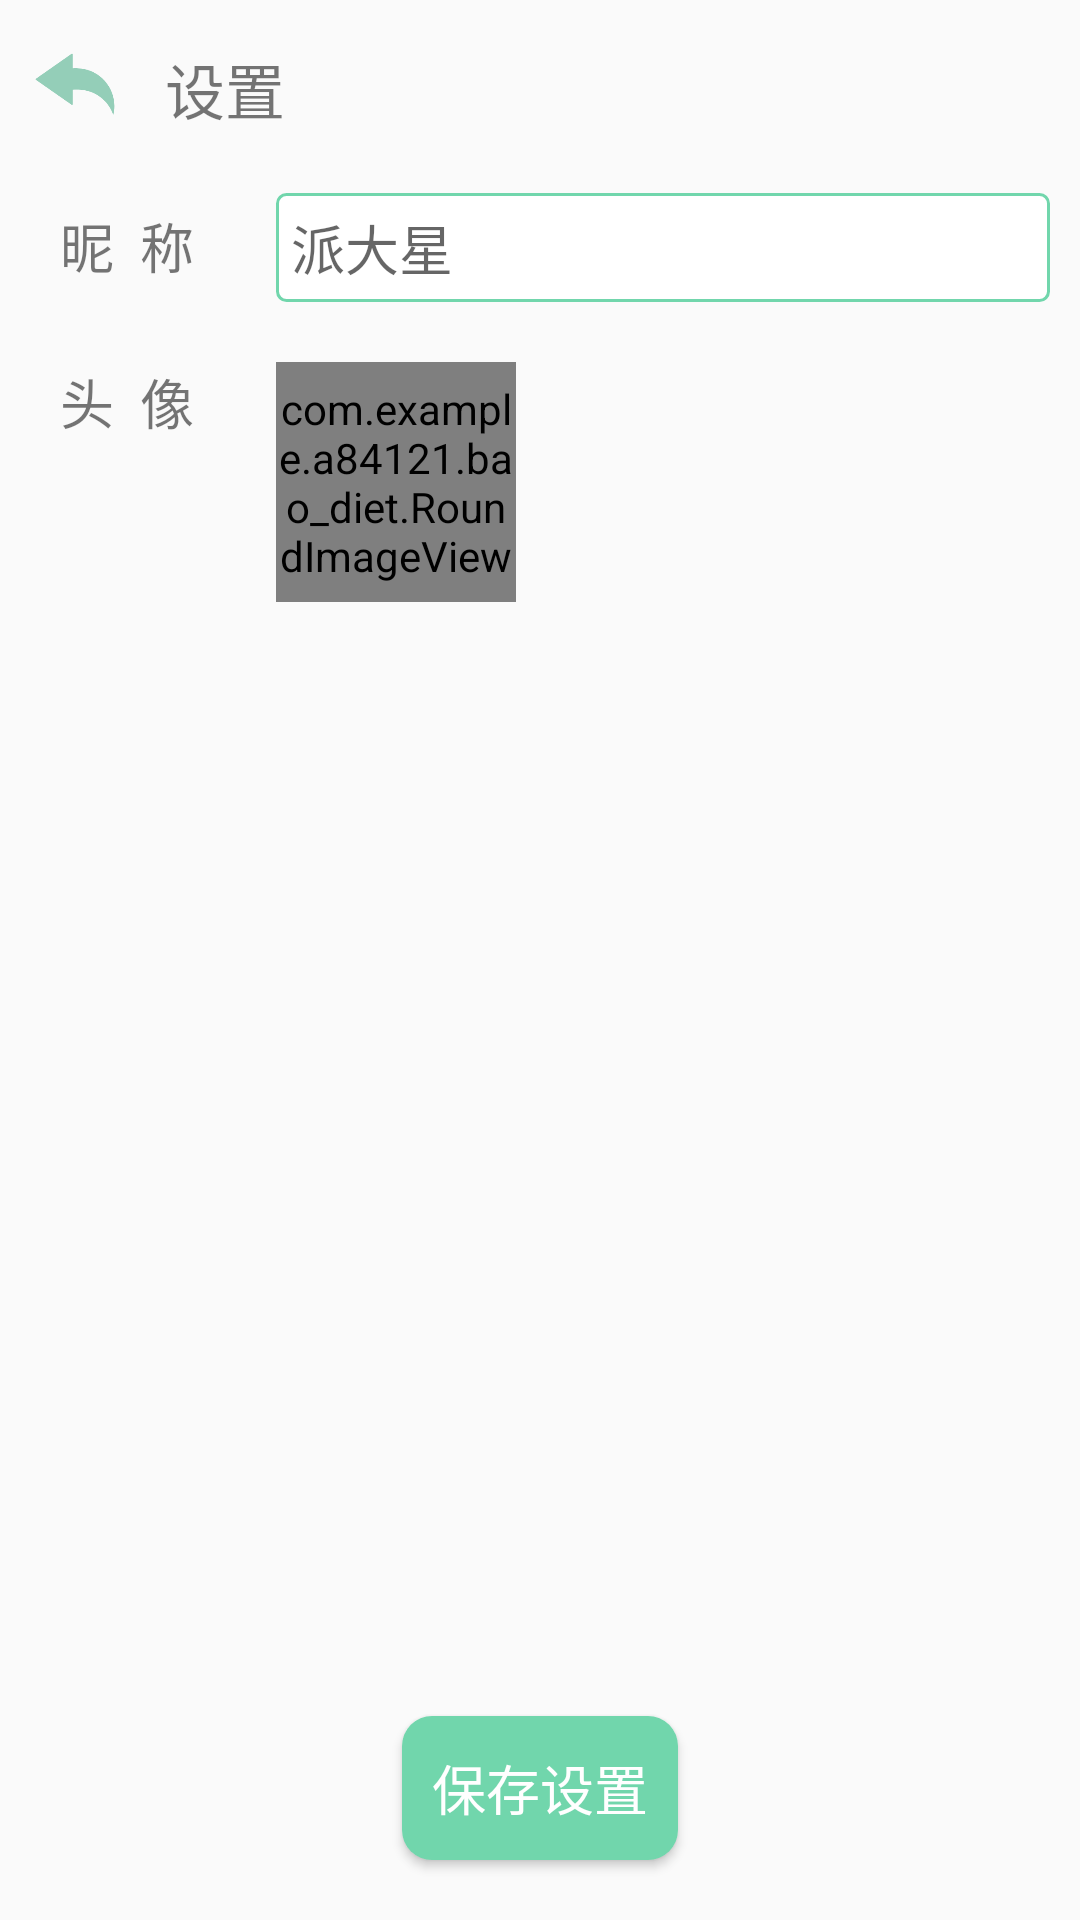

Icon click points for this 1080x1920 phone screenshot, format [x,y]:
back: [75,84]
